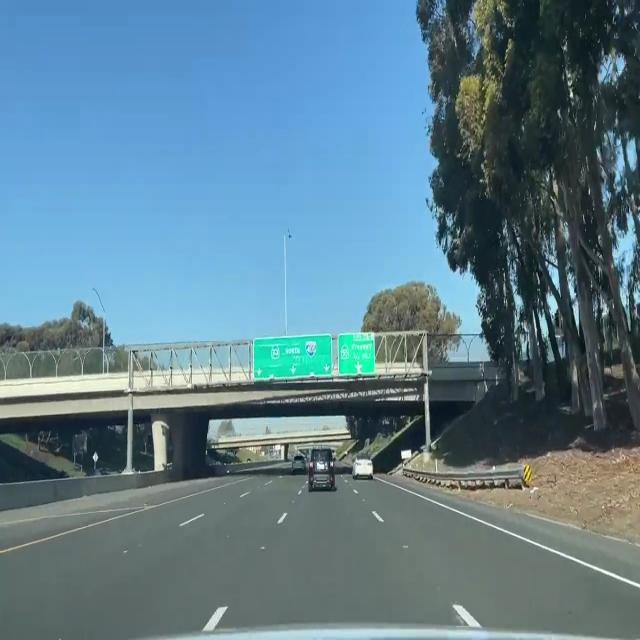street-signs: (253, 334, 333, 378), (338, 330, 375, 378)
